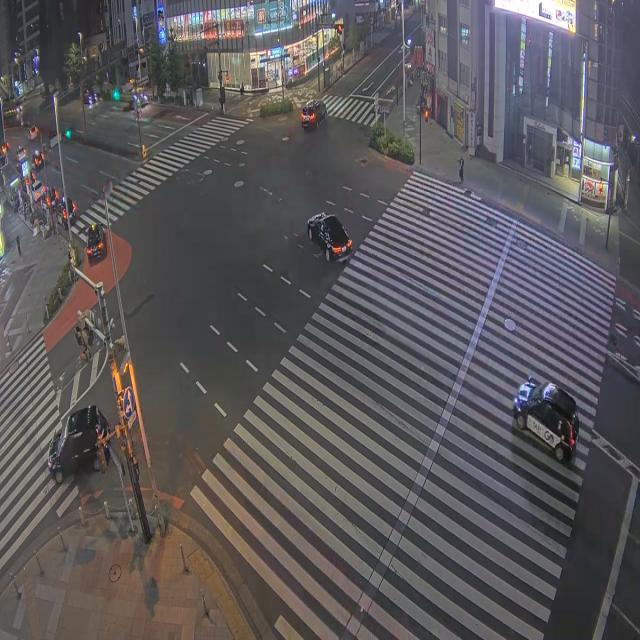car: (513, 377, 579, 461), (48, 406, 108, 483), (308, 213, 352, 261), (86, 224, 105, 261), (302, 100, 326, 127), (56, 197, 76, 224), (47, 184, 59, 206), (32, 181, 45, 201), (32, 152, 43, 169), (17, 147, 26, 161), (29, 127, 38, 140)
